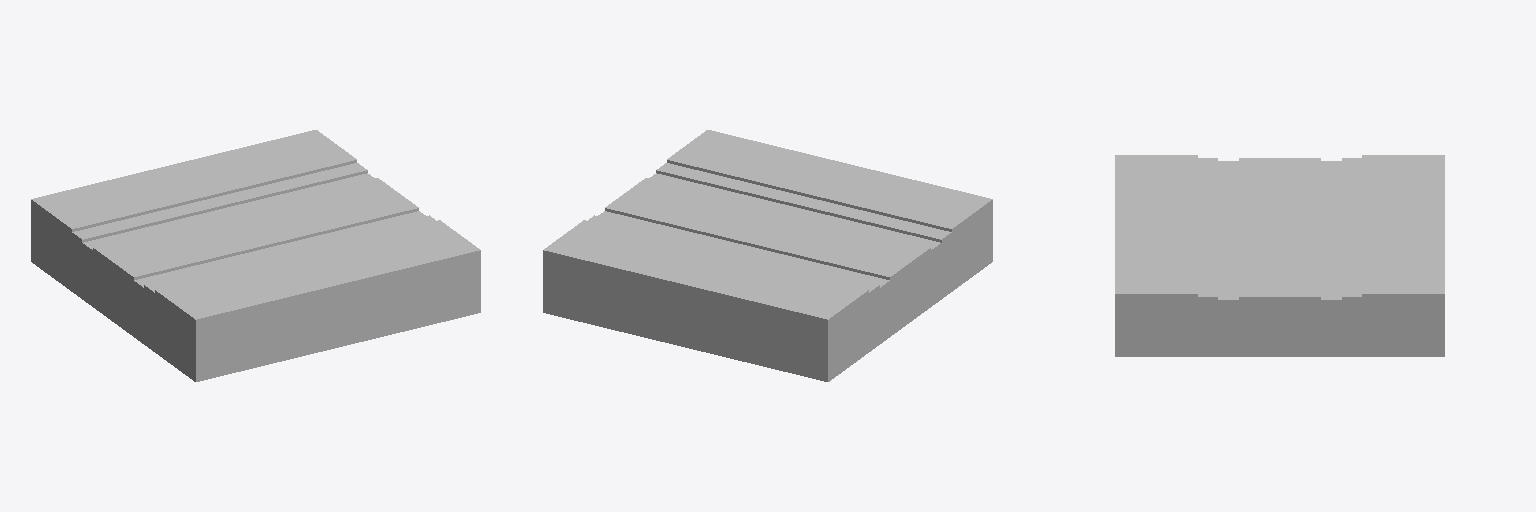
File: tile286.obj
The picture shows the model from 3 angles: view 1: azimuth 30°, elevation 25°; view 2: azimuth 150°, elevation 25°; view 3: azimuth 270°, elevation 25°; orthographic projection.
Visible parts, largest first — view 1: tile286; view 2: tile286; view 3: tile286.
Part boxes in pixels (left/top/right/bottom): tile286: left=31, top=130, right=480, bottom=381; tile286: left=543, top=130, right=992, bottom=381; tile286: left=1115, top=155, right=1444, bottom=356.
Size of the model in its own units: 1 by 0.21 by 1.